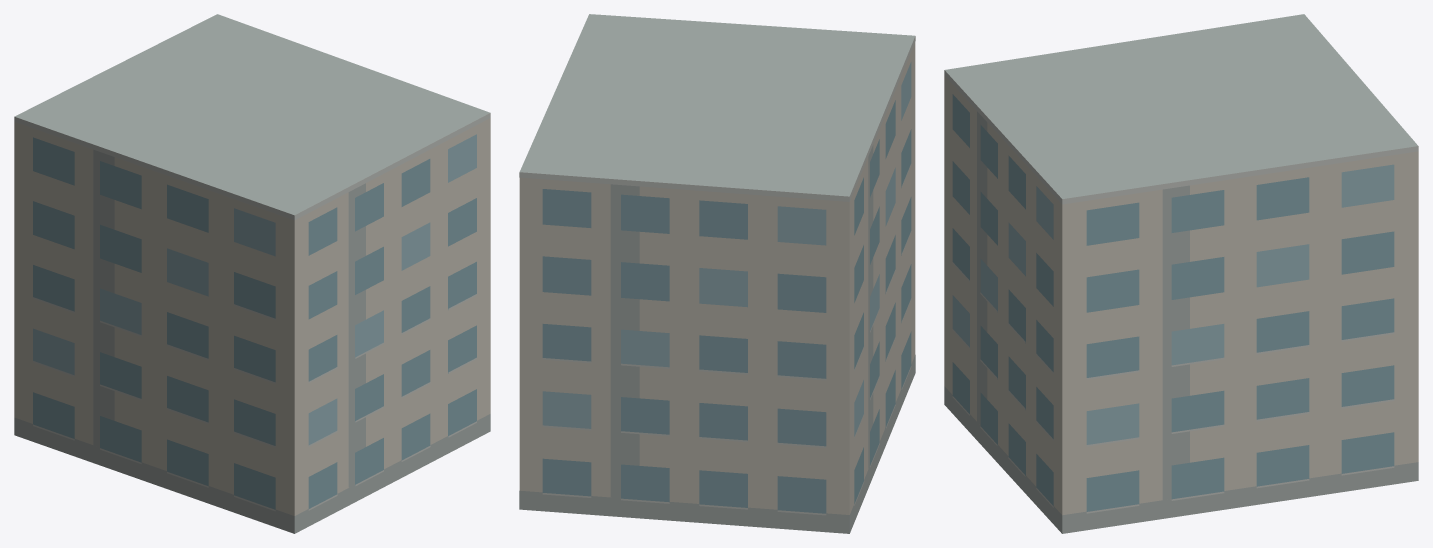
The model's file is survey-upis-32647318.glb.
The picture shows the model from 3 angles, left to right: view 1: azimuth 30°, elevation 25°; view 2: azimuth 150°, elevation 25°; view 3: azimuth 270°, elevation 25°; orthographic projection. The views are drawn at different scales.
Visible parts, largest first — view 1: survey-upis-32647318.tmp; view 2: survey-upis-32647318.tmp; view 3: survey-upis-32647318.tmp.
Part boxes in pixels (bbox=[...]): survey-upis-32647318.tmp: bbox=[14, 14, 490, 533]; survey-upis-32647318.tmp: bbox=[519, 14, 915, 533]; survey-upis-32647318.tmp: bbox=[944, 14, 1418, 533].
Bounding box in the file's own units: 18.1 × 15.25 × 19.58.
